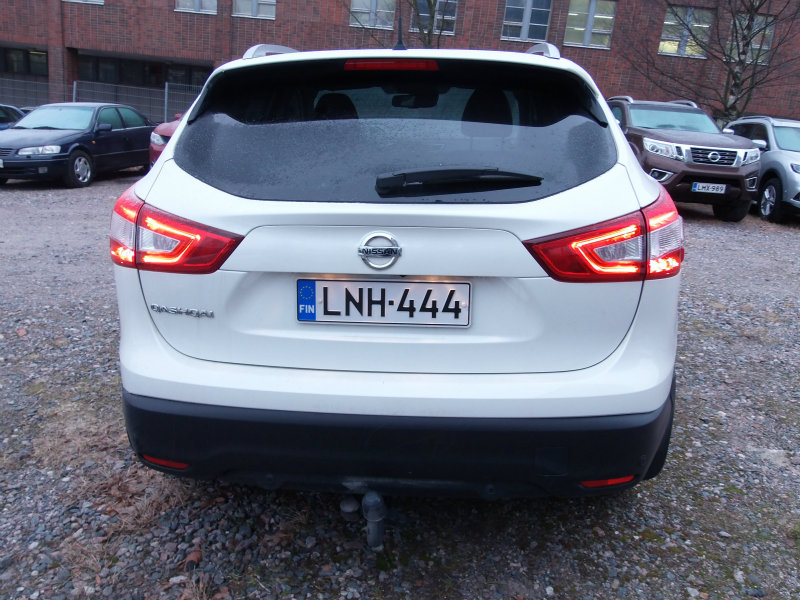license: (293, 280, 469, 328)
